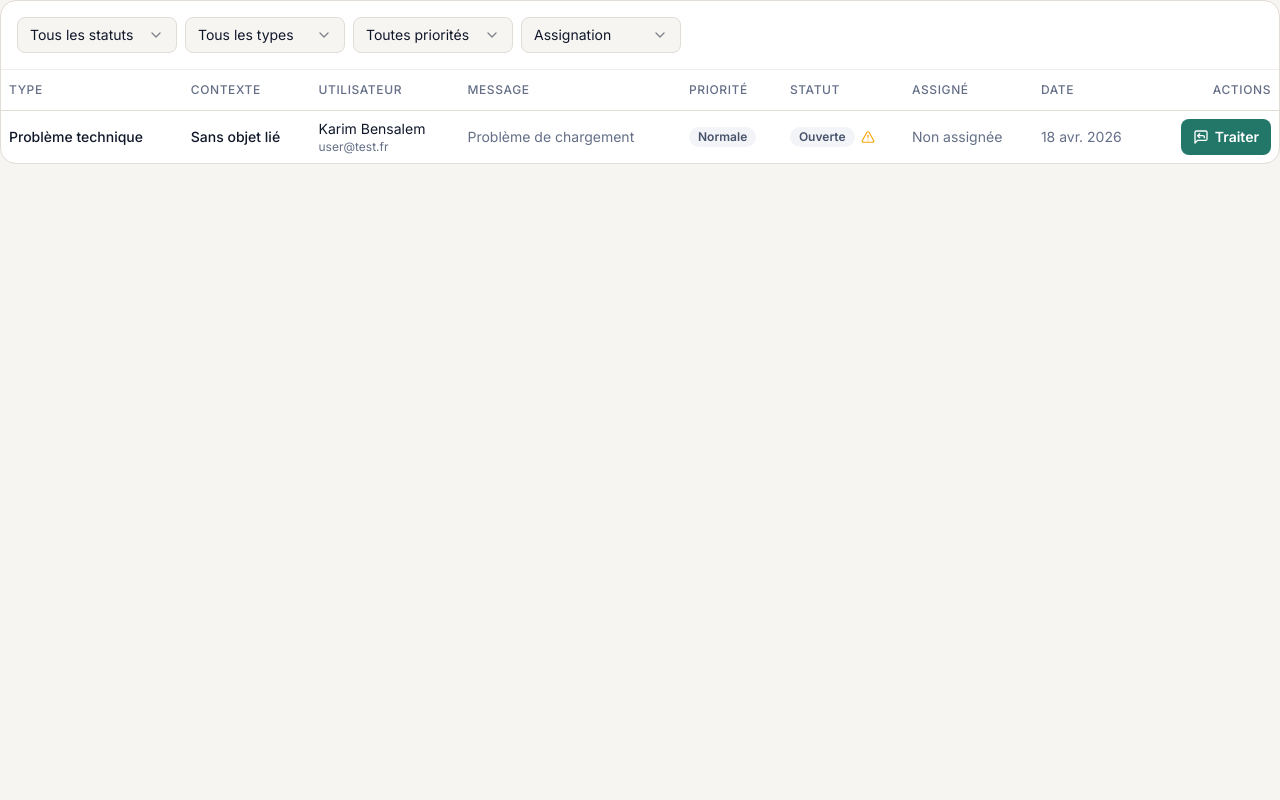
Scenario: DeskRequestsTable › affiche le bouton 'Me l'assigner' quand currentAdminId est fourni et demande non assignée
Click the button "Traiter" at (1226, 136), box [1181,118,1271,154]
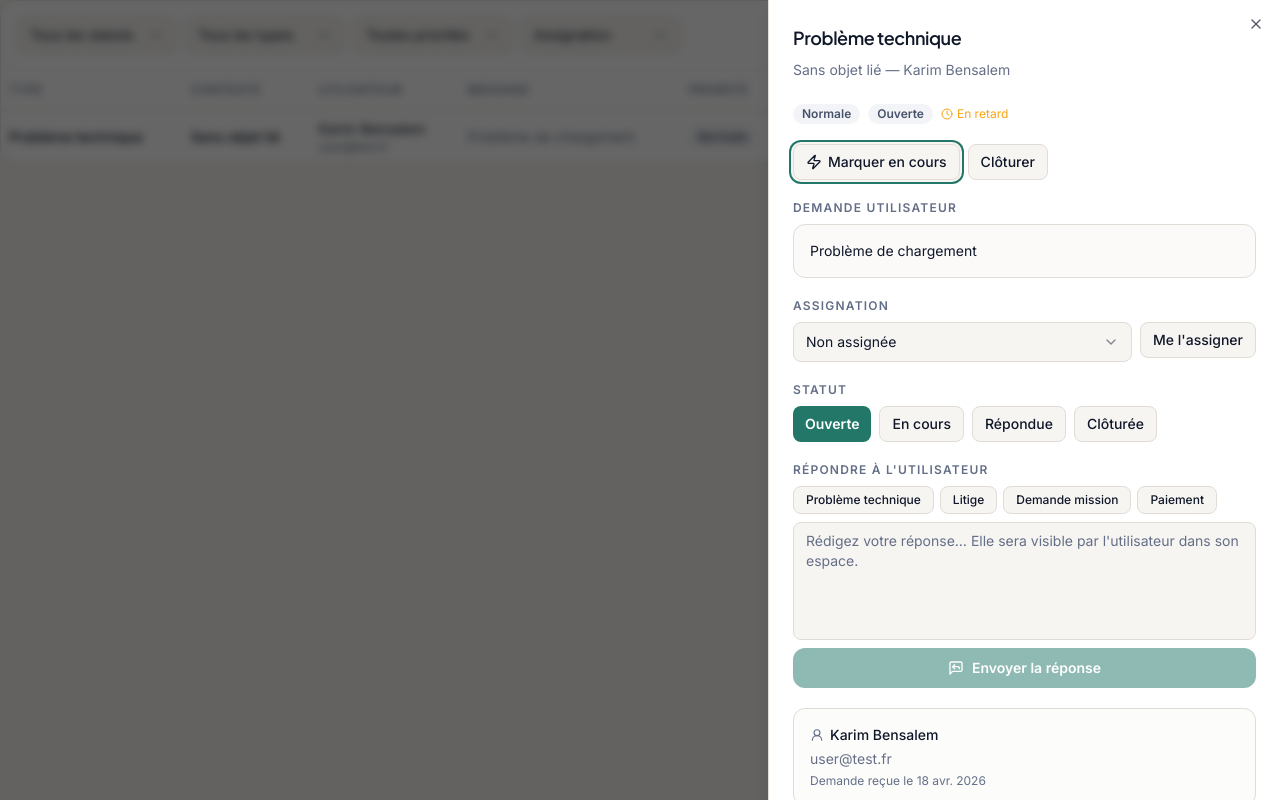
Check: the button "Me l'assigner" is shown, box [1140,322,1256,358]
